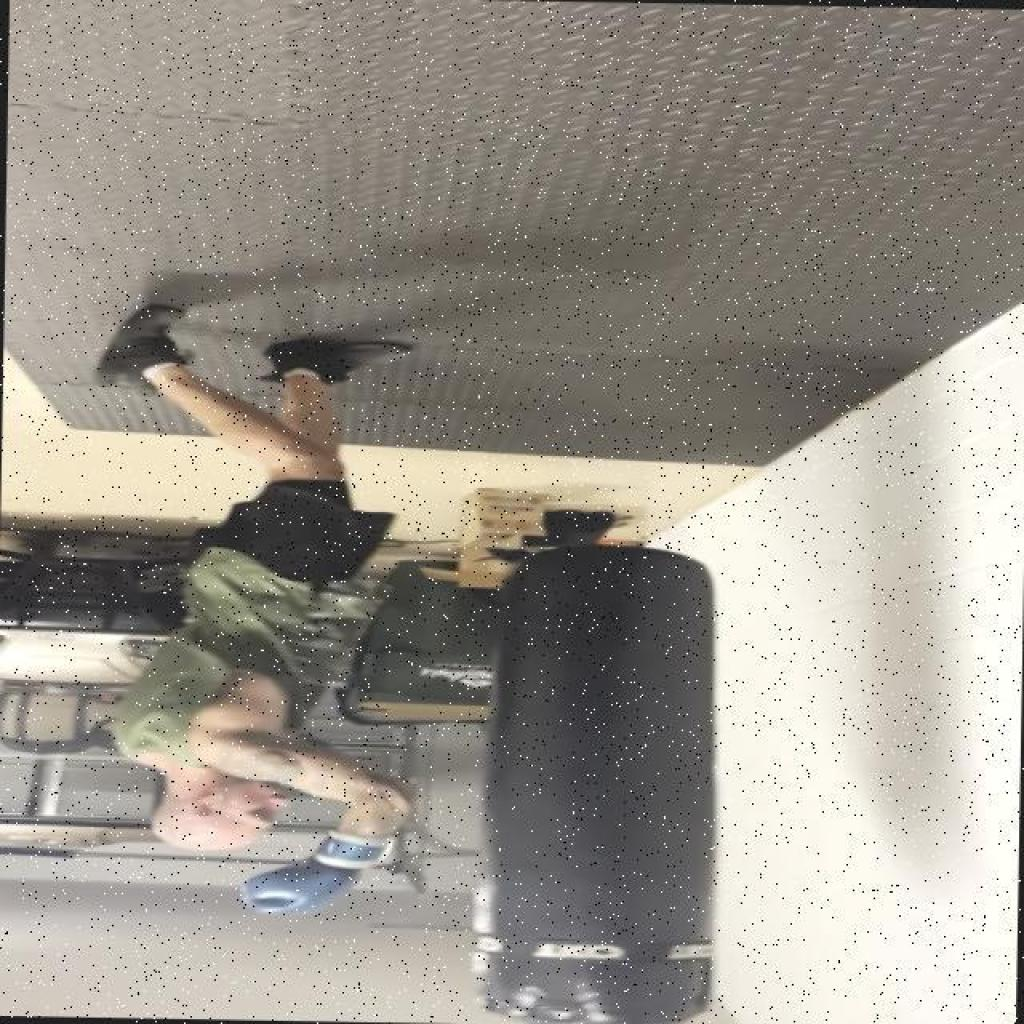bag: (456, 531, 762, 1024)
uppercut: (102, 670, 437, 920)
